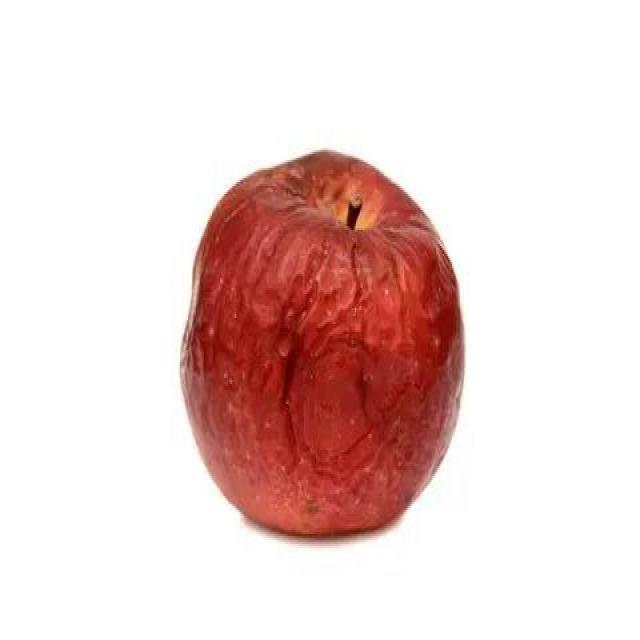Rotten: (180, 163, 458, 590)
